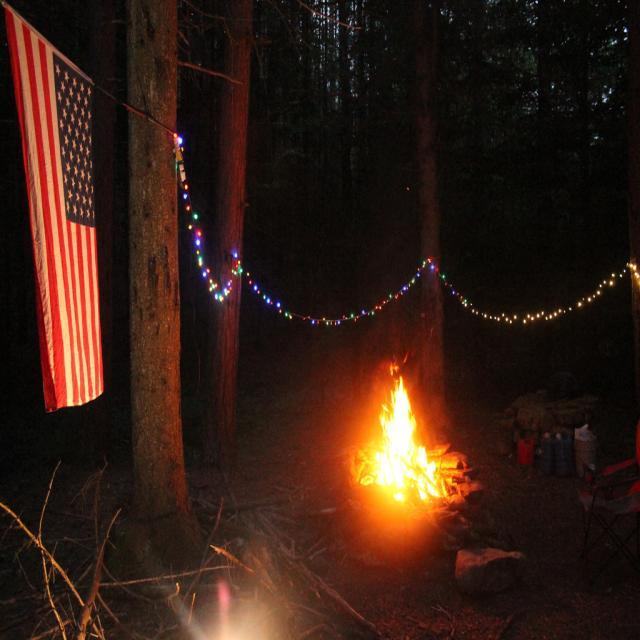Fire: (351, 356, 448, 522)
